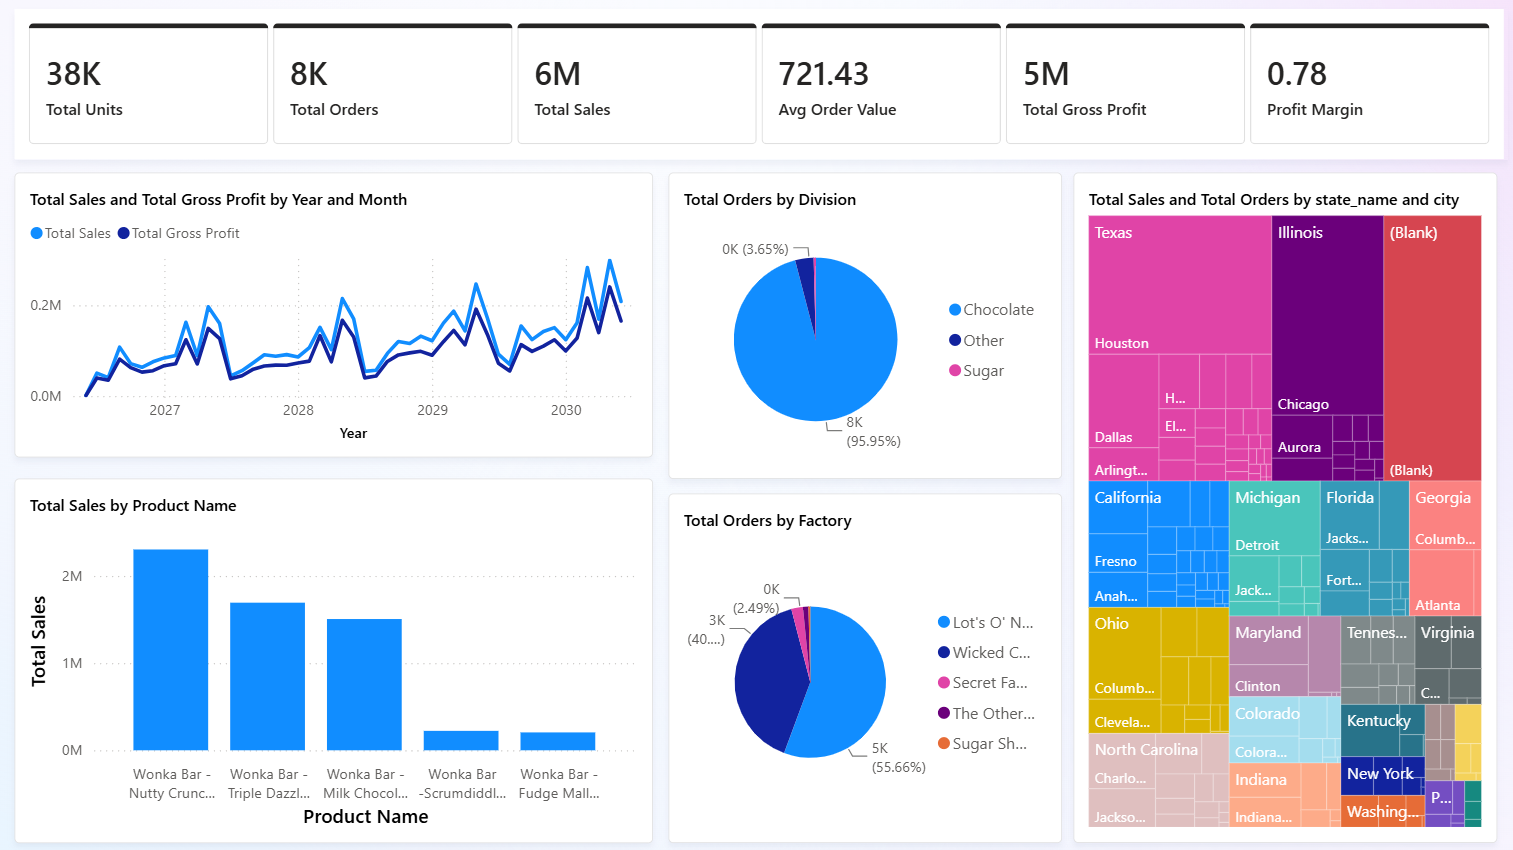

This screenshot's page, from the dashboard's own definition file:
{"tool":"powerbi","page":{"name":"EDA","canvas":[1280,720],"ordinal":0},"visuals":[{"type":"lineChart","fields":{"Y":["_Measures.Total Sales","_Measures.Total Gross Profit"],"Category":["Fact_Candy_Sales.Ship Date.Variation.Date Hierarchy.Year","Fact_Candy_Sales.Ship Date.Variation.Date Hierarchy.Month"]},"box":[18.2,146.9,533,237.7],"z":0},{"type":"clusteredColumnChart","title":"Total Sales by Product Name","fields":{"Y":["_Measures.Total Sales"],"Category":["Dim_Products.Product Name"]},"box":[18.2,402.8,533,304.4],"z":1000},{"type":"treemap","fields":{"Values":["_Measures.Total Sales"],"Details":["Dim_Locations.city"],"Group":["Dim_Locations.state_name"]},"box":[904,146.9,354.3,560.3],"z":3000},{"type":"cardVisual","fields":{"Data":["_Measures.Total Units","_Measures.Total Orders","_Measures.Total Sales","_Measures.Avg Order Value","_Measures.Total Gross Profit","_Measures.Profit Margin"]},"box":[18.2,10.6,1247.7,125.7],"z":4000},{"type":"pieChart","fields":{"Category":["Dim_Products.Division"],"Y":["_Measures.Total Orders"]},"box":[565.3,146.9,328.6,255.9],"z":5000},{"type":"pieChart","fields":{"Category":["Dim_Products.Factory"],"Y":["_Measures.Total Orders"]},"box":[565.3,414.9,328.6,292.2],"z":6000}]}

Visuals, with their boxes in screenshot pixels (x1, y1, x2, y2), scaled from the page's 1280x720 canvas onto the 1513x850 screenshot:
lineChart - _Measures.Total Sales x _Measures.Total Gross Profit: pyautogui.locateOnScreen(22, 173, 652, 454)
"Total Sales by Product Name" clusteredColumnChart: pyautogui.locateOnScreen(22, 476, 652, 835)
treemap - _Measures.Total Sales x Dim_Locations.city: pyautogui.locateOnScreen(1069, 173, 1487, 835)
cardVisual - _Measures.Total Units x _Measures.Total Orders: pyautogui.locateOnScreen(22, 13, 1496, 161)
pieChart - Dim_Products.Division x _Measures.Total Orders: pyautogui.locateOnScreen(668, 173, 1057, 476)
pieChart - Dim_Products.Factory x _Measures.Total Orders: pyautogui.locateOnScreen(668, 490, 1057, 835)
